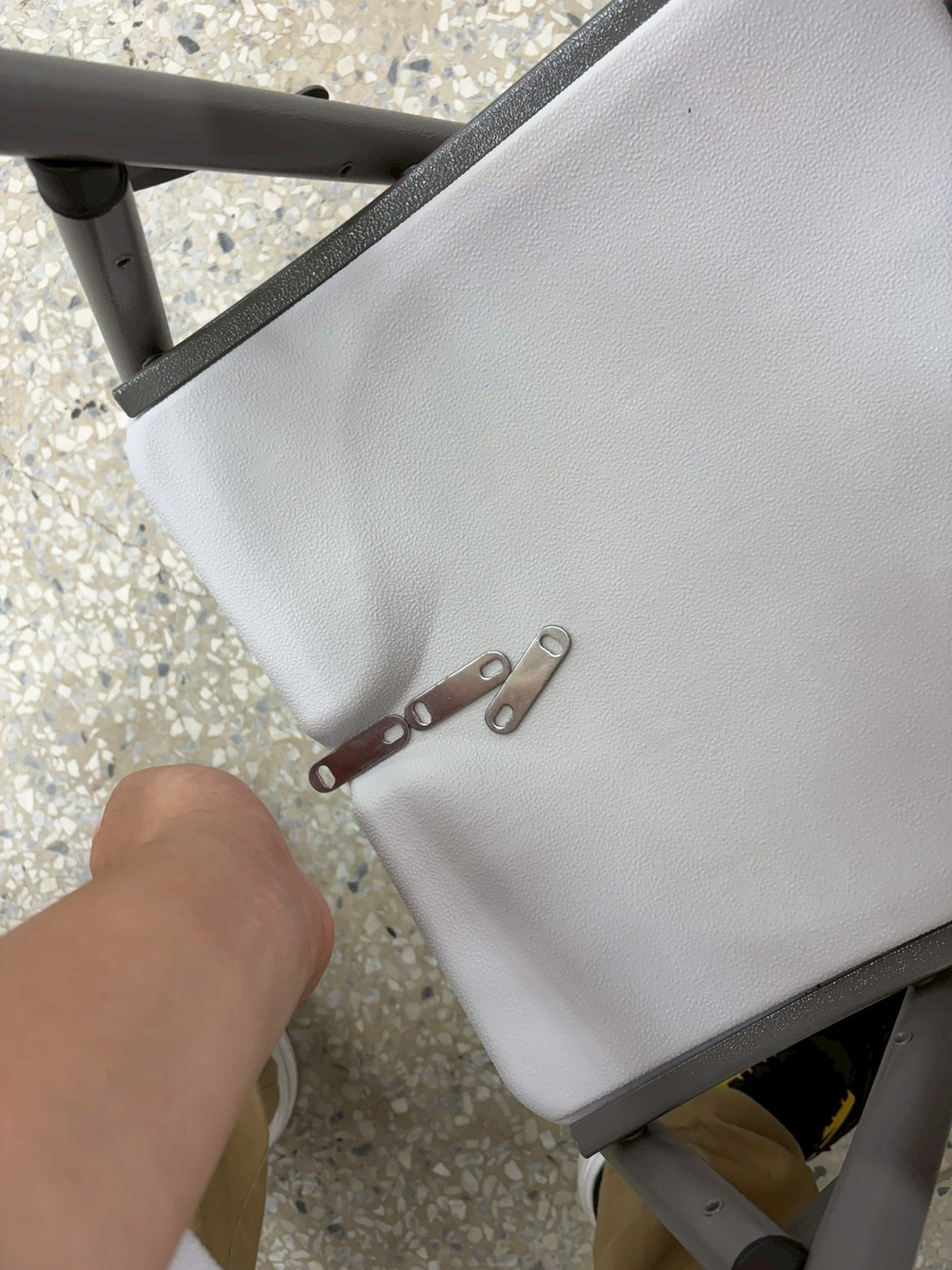Fe: (399, 700, 445, 827), (543, 615, 589, 742), (499, 642, 542, 759)
